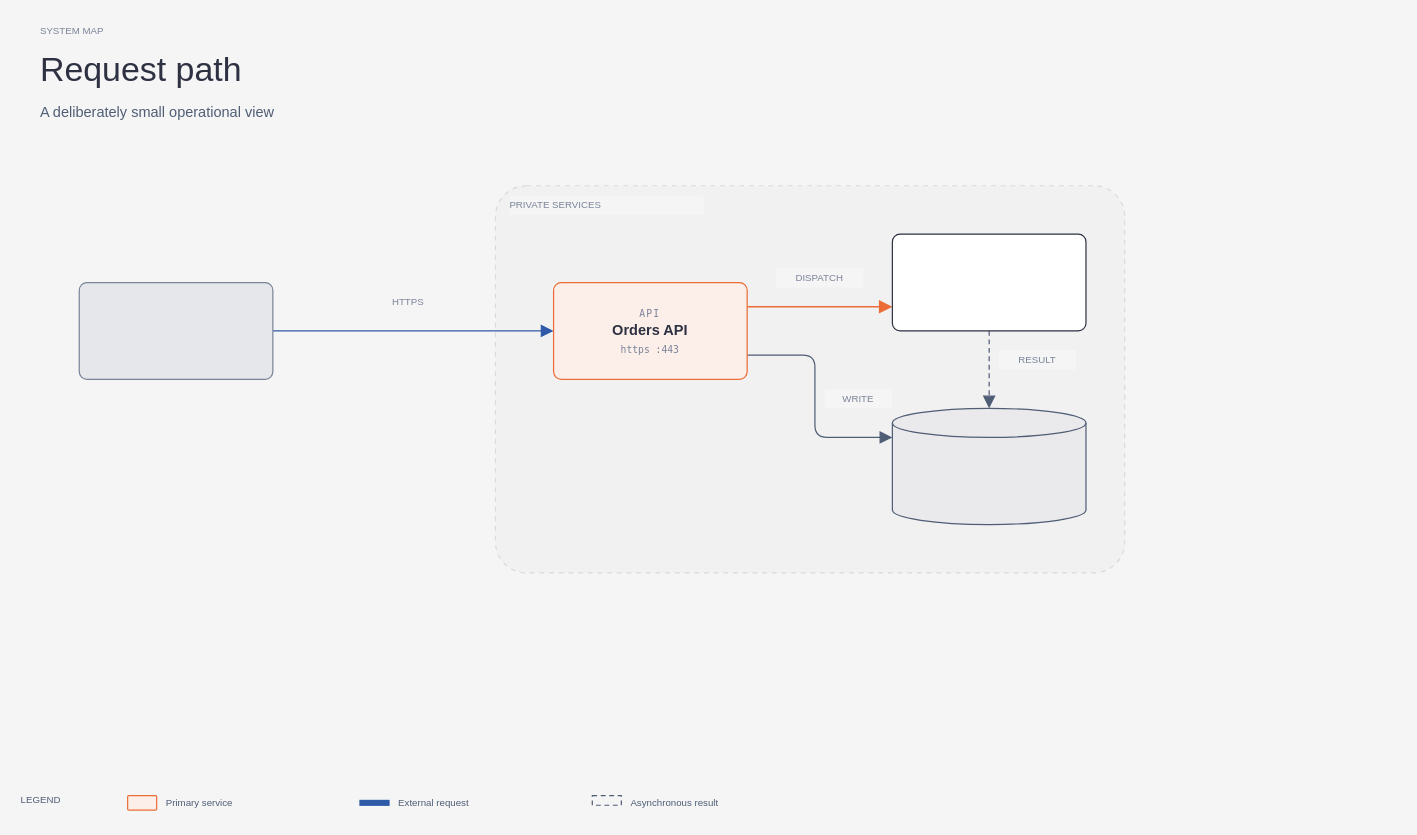
Some shapes in this 1417 by 835 pixel diagram are drawn without their labels. Here are the shapes that lost their labels. From the top down, the centre of each, then its label:
At point 988,282: "WORKER Fulfilment queue consumer".
At point 175,330: "CLIENT Web app browser".
At point 988,466: "STORE Orders postgres :5432".
